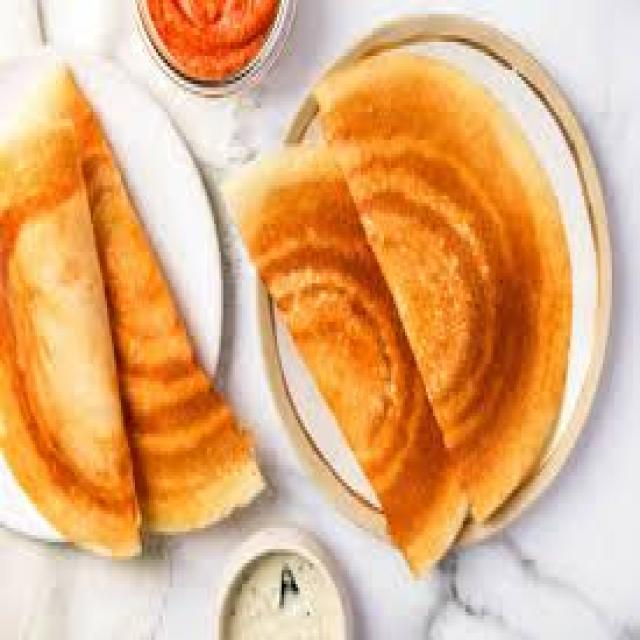DOSA: (313, 53, 570, 531), (32, 45, 269, 535), (224, 142, 472, 584), (0, 123, 146, 554)
